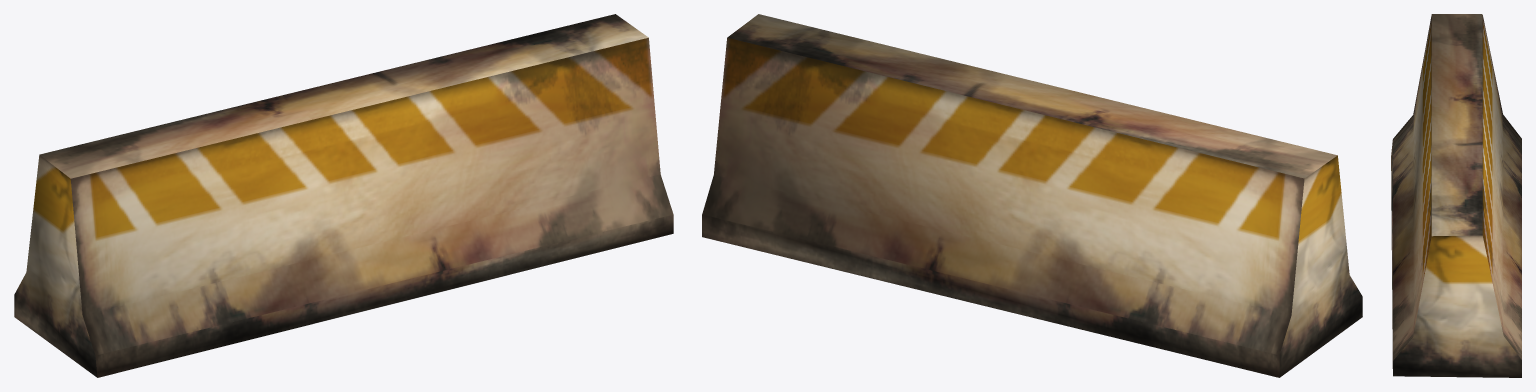
The model's file is barrier.fbx.
3 renders of one model, left to right at view 1: azimuth 30°, elevation 25°; view 2: azimuth 150°, elevation 25°; view 3: azimuth 270°, elevation 25°, orthographic. The views are drawn at different scales.
Parts seen in each view (by area): view 1: barrier; view 2: barrier; view 3: barrier.
Boxes of the visible parts, x1,y1,x2,y2 form: barrier: (14,14,673,377); barrier: (702,14,1362,377); barrier: (1391,14,1521,377).
Size of the model in its own units: 2.49 by 0.7437 by 0.6198.
